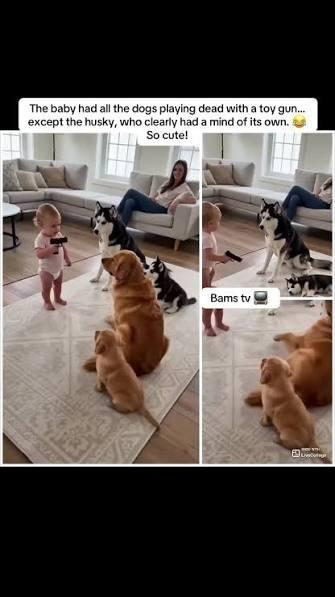adult_dog: (80, 252, 167, 380), (244, 308, 334, 409), (57, 202, 147, 292), (256, 201, 333, 283)
puppy-dog: (94, 330, 158, 429), (259, 357, 324, 454), (142, 257, 197, 315), (280, 265, 331, 298)
